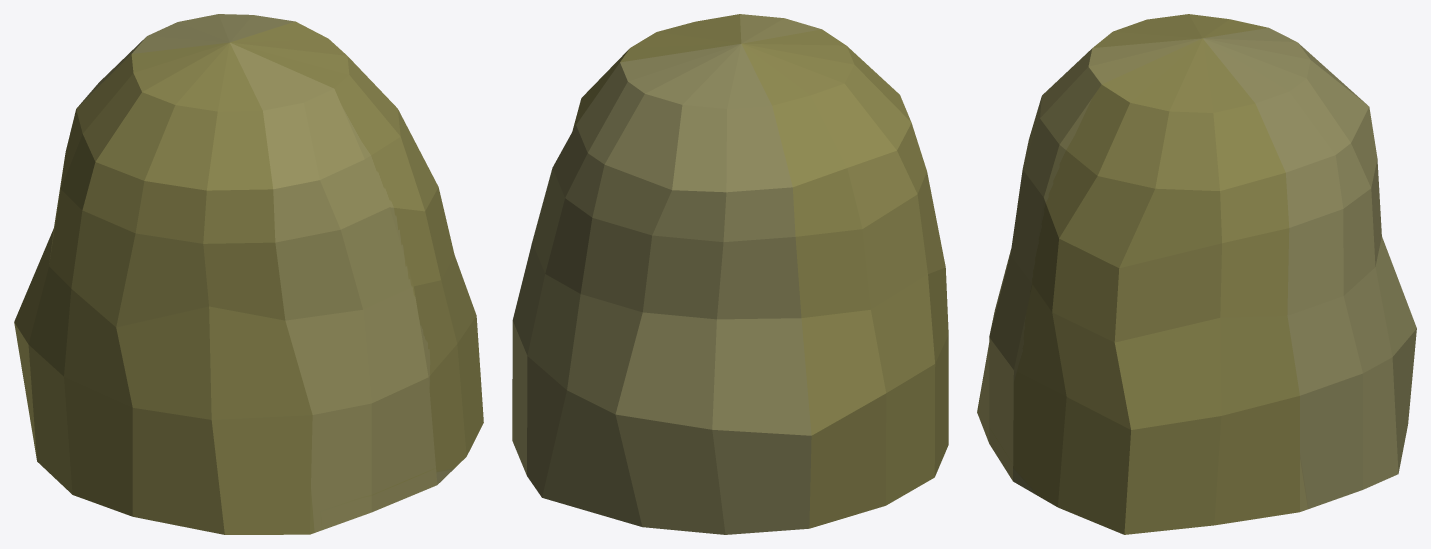
File: object11_mountainC.fbx
3 views of the same model, side by side, from view 1: azimuth 30°, elevation 25°; view 2: azimuth 150°, elevation 25°; view 3: azimuth 270°, elevation 25° (orthographic). The views are drawn at different scales.
Parts seen in each view (by area): view 1: Cylinder; view 2: Cylinder; view 3: Cylinder.
Part boxes in pixels (x1,y1,x2,y2): Cylinder: (14,14,483,534); Cylinder: (512,14,948,534); Cylinder: (977,14,1416,534).
Bounding box in the file's own units: 700 × 686 × 694.
